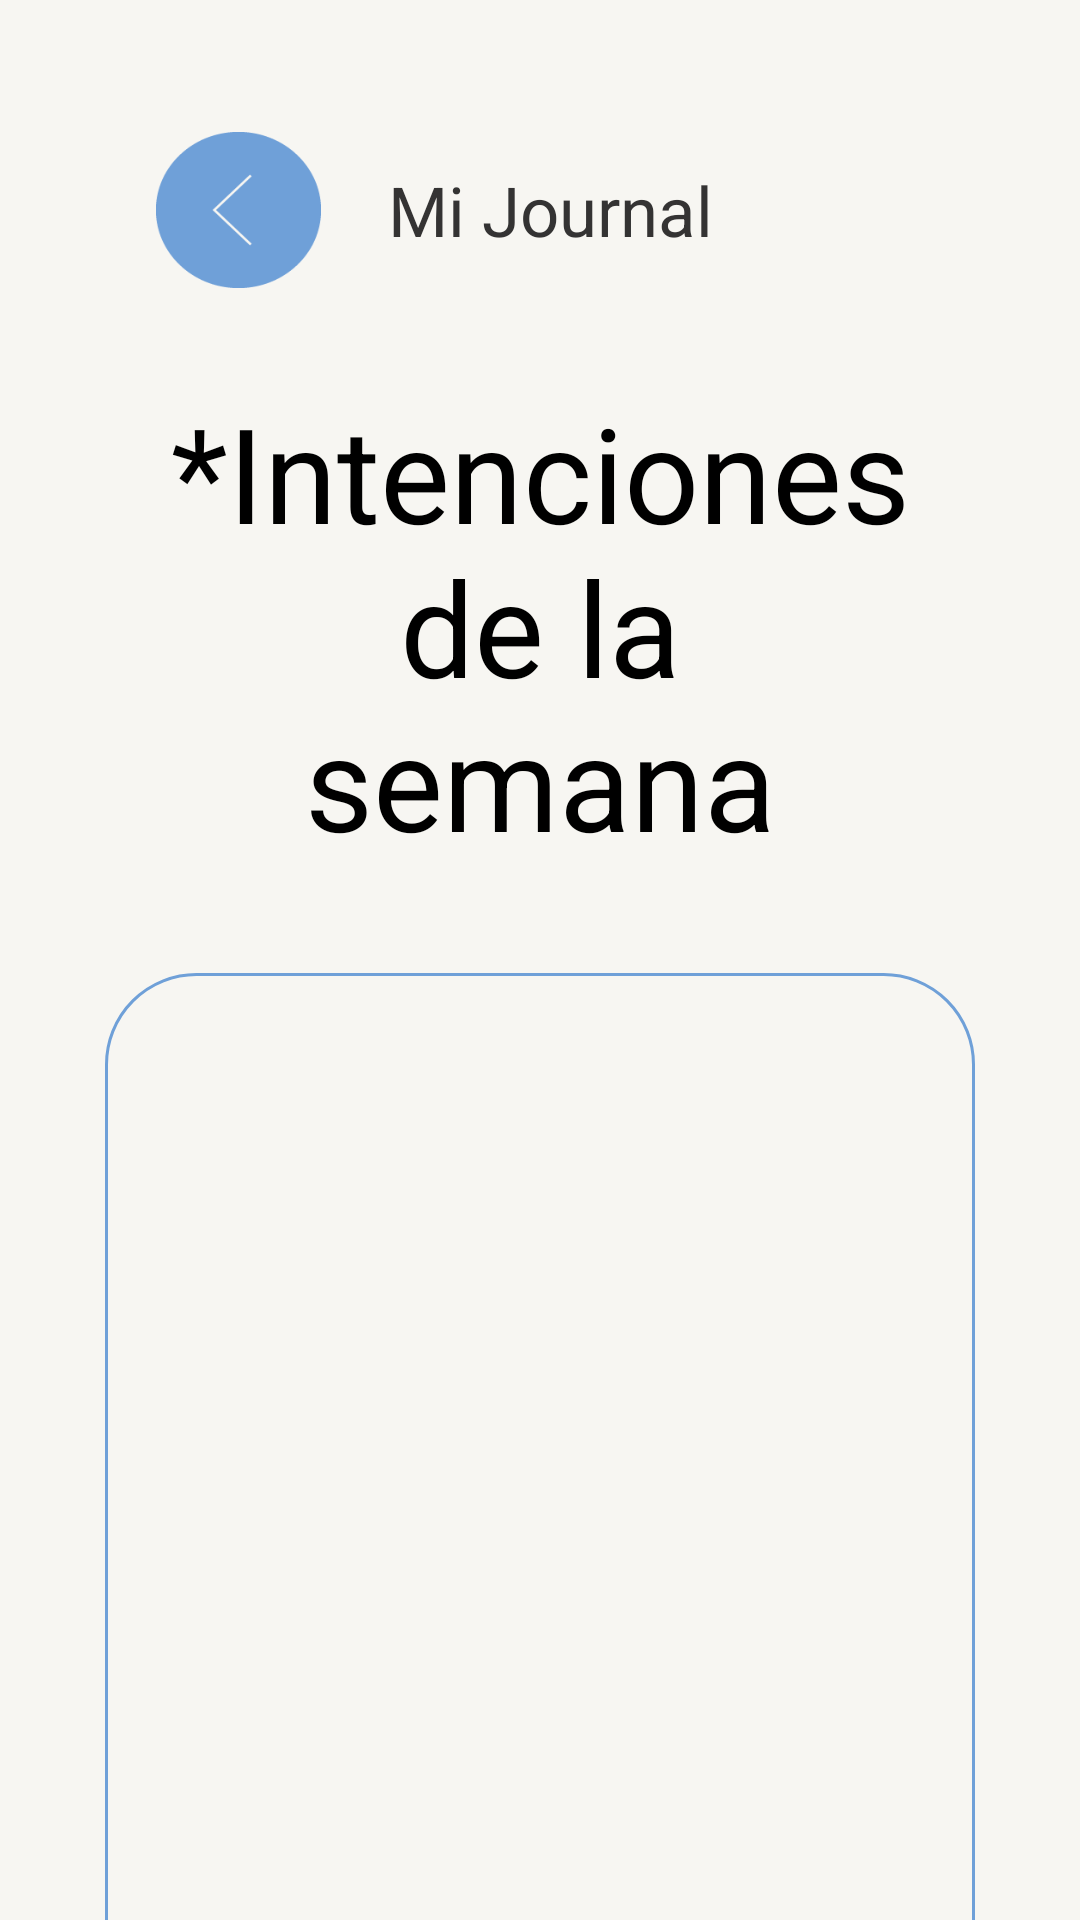

Screen size 1080w x 1920h. Icon name, then its center in pixels as [x,y]:
regresar xxxdpi: [238,210]
